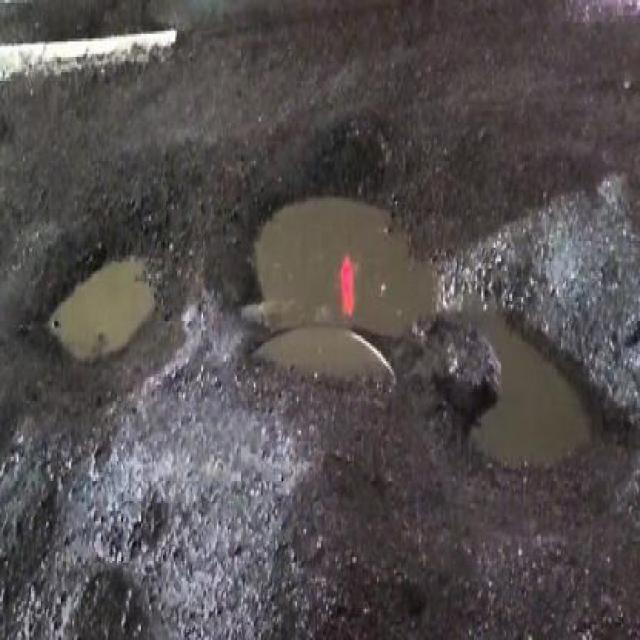pothole: (232, 170, 443, 364), (435, 271, 623, 485), (35, 216, 174, 382)
